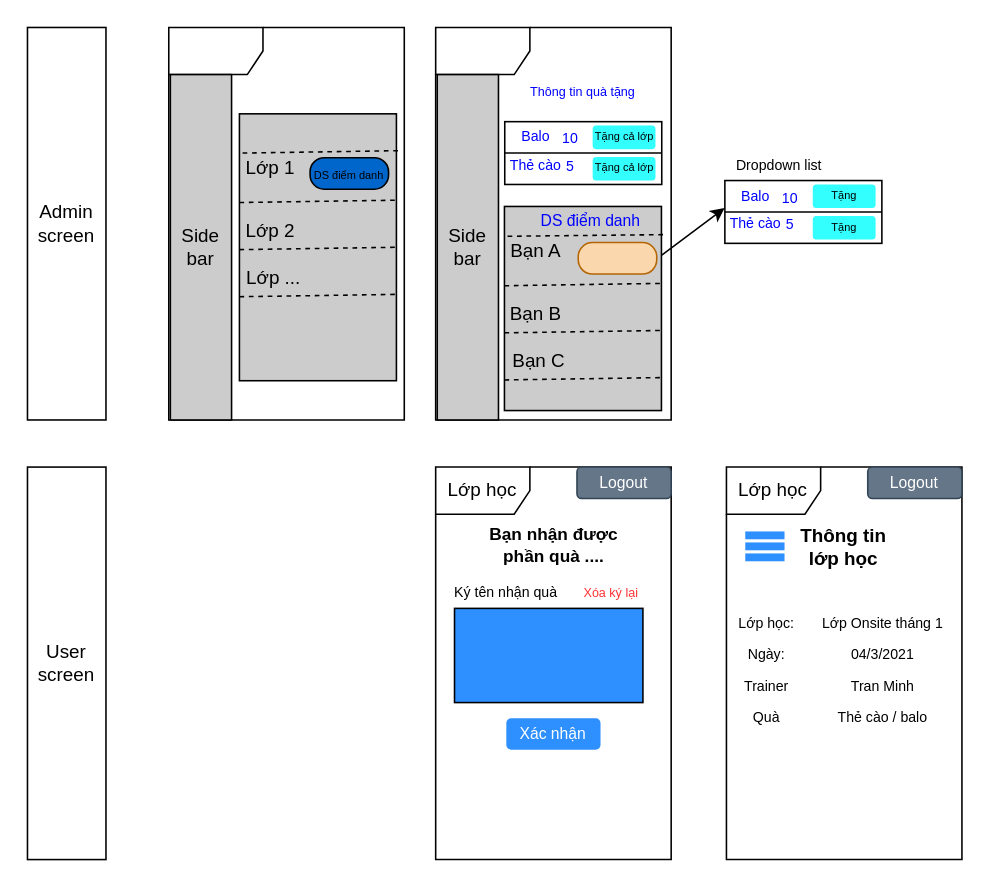
This 991x887 diagram has some shape labels left out. The box of each missing label's shape, as (x1, y1, x2, y2) in pixels:
Danh sách điểm danh: (434, 26, 671, 420)
DS lớp: (167, 26, 404, 420)
Tặng/hẹn trao: (577, 241, 657, 274)
